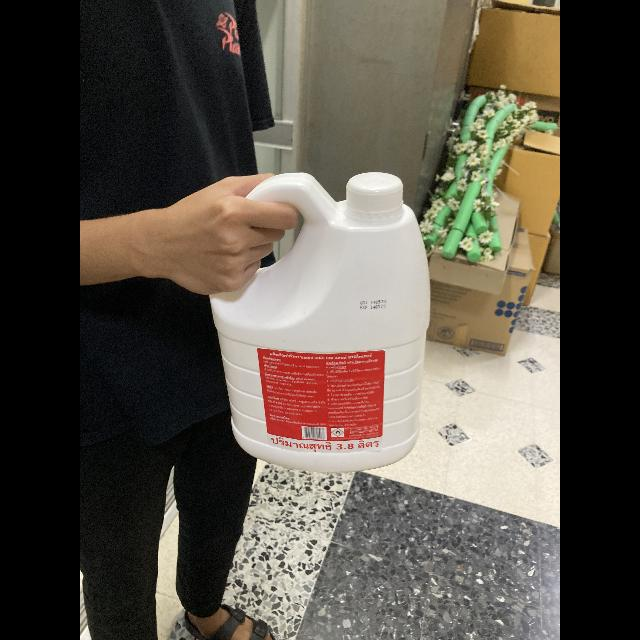chemical_plastic_gallon: (208, 171, 432, 474)
